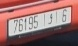1: (24, 18, 27, 31)
5: (33, 15, 39, 29)
6: (61, 9, 68, 23), (19, 18, 24, 32)
7: (13, 20, 18, 34)
9: (28, 16, 33, 30)
waw: (47, 13, 53, 25)
